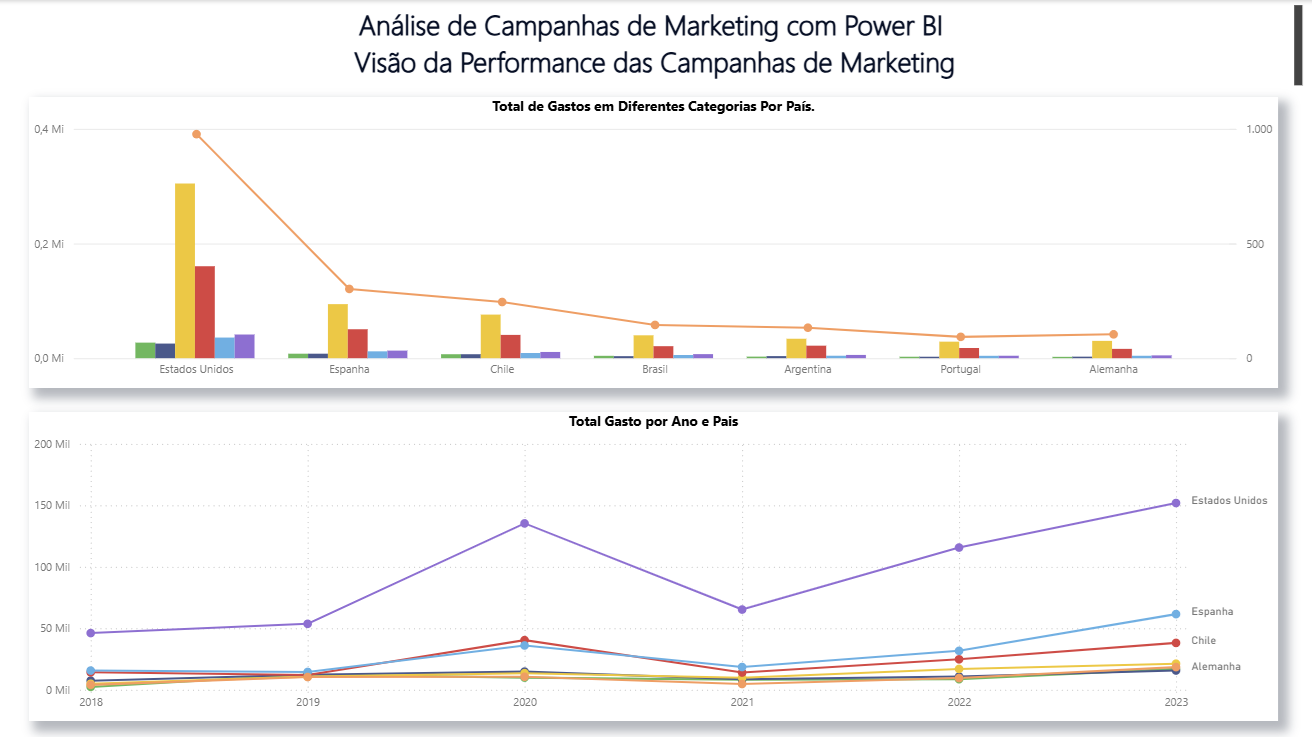

This screenshot's page, from the dashboard's own definition file:
{"tool":"powerbi","page":{"name":"Visão Ponto de Vendas","canvas":[1280,720],"ordinal":3},"visuals":[{"type":"textbox","box":[9.7,0,1262.5,94.3],"z":0},{"type":"lineClusteredColumnComboChart","title":"Total de Gastos em Diferentes Categorias Por País. ","fields":{"Category":["data.Pais"],"Y":["Sum(data.Gasto com Alimentos)","Sum(data.Gasto com Brinquedos)","Sum(data.Gasto com Eletronicos)","Sum(data.Gasto com Moveis)","Sum(data.Gasto com Utilidades)","Sum(data.Gasto com Vestuario)"],"Y2":["CountNonNull(data.ID)"]},"box":[28.2,94.3,1214.8,283],"z":1000},{"type":"lineChart","fields":{"Y":["data.Total Gasto"],"Series":["data.Pais"],"Category":["data.Data Cadastro.Variation.Hierarquia de datas.Ano"]},"box":[28.2,400.7,1214.8,300.5],"z":2000}]}

Visuals, with their boxes in screenshot pixels (x1, y1, x2, y2), scaled from the page's 1280x720 canvas onto the 1312x737 screenshot:
textbox: rect(10, 0, 1304, 97)
"Total de Gastos em Diferentes Categorias Por País. " lineClusteredColumnComboChart: rect(29, 97, 1274, 386)
lineChart - data.Total Gasto x data.Pais: rect(29, 410, 1274, 718)
